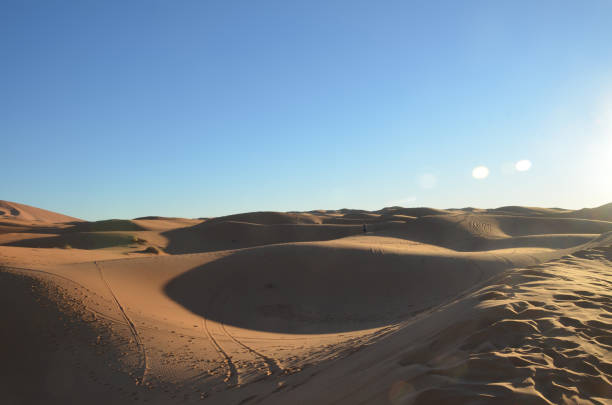vehicle_track: (94, 261, 147, 384), (219, 322, 282, 375), (221, 323, 282, 375), (201, 318, 238, 386)
